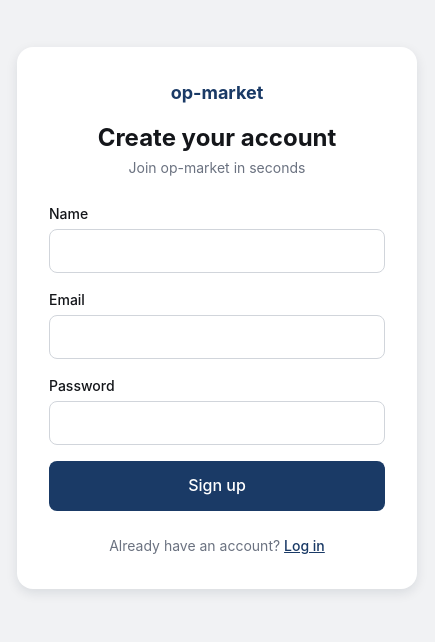
SignupPage › shows a general error banner when signup fails (e.g. email already exists)
Type "Lahcen" into the field labelled "Name". click: x=217, y=251
box: [49,229,385,273]
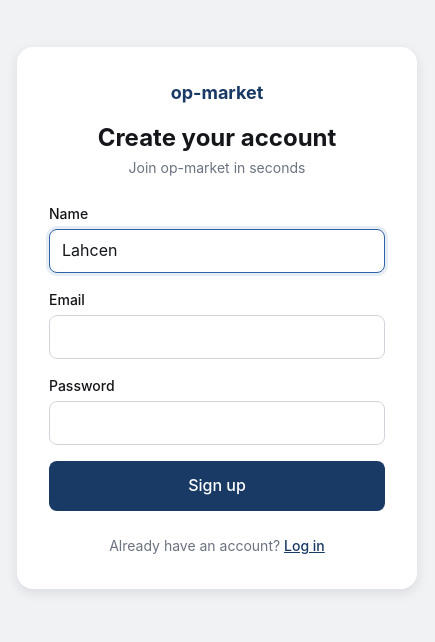
Type "existing@test.com" into the field labelled "Email". click: x=217, y=337
box: [49,315,385,359]
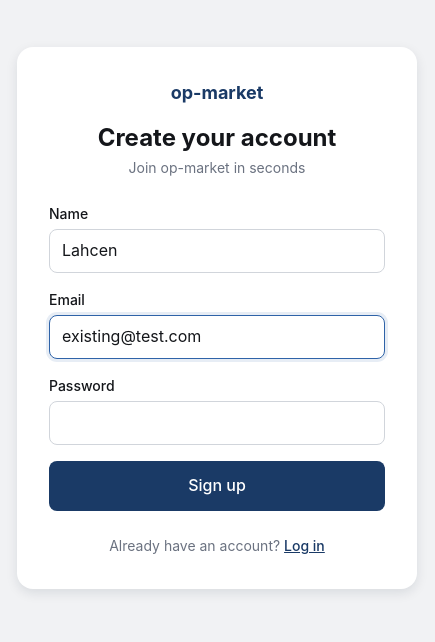
Type "secret123" into the password field labelled "Password". click: x=217, y=423
box: [49,401,385,445]
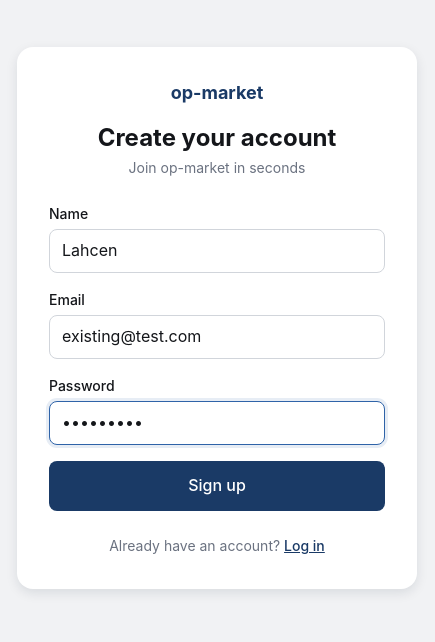
Click the button "Sign up". click: x=217, y=486
box: [49,461,385,511]
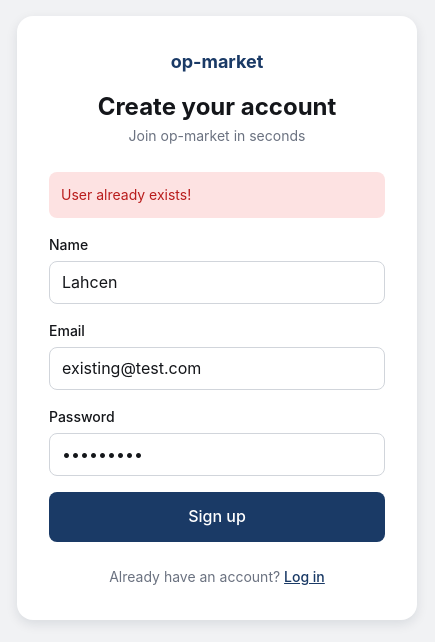
Expected: the message reads "User already exists!", [61,186,191,203]
